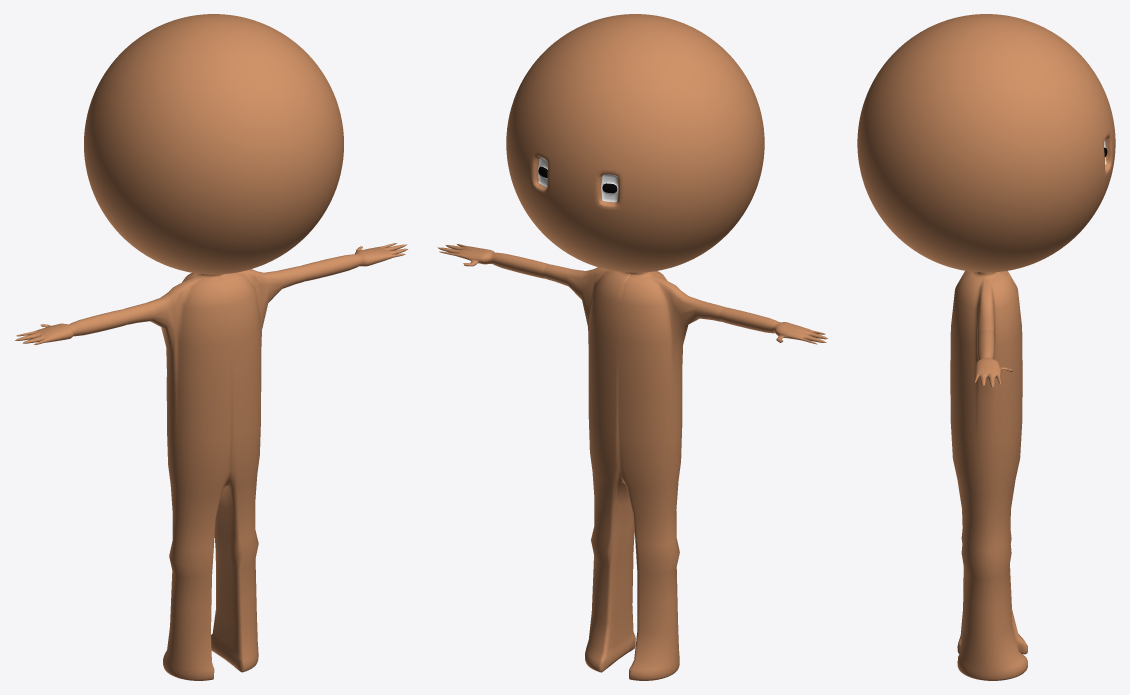
Rendered from deneme3 1.obj.
3 views of the same model, side by side, from view 1: azimuth 30°, elevation 25°; view 2: azimuth 150°, elevation 25°; view 3: azimuth 270°, elevation 25° (orthographic).
Parts seen in each view (by area): view 1: Sphere; view 2: Sphere; view 3: Sphere.
Part boxes in pixels (<box>): Sphere: <box>15,14,407,680</box>; Sphere: <box>437,14,828,680</box>; Sphere: <box>857,14,1115,680</box>.
Size of the model in its own units: 3.47 by 5.41 by 1.99.
